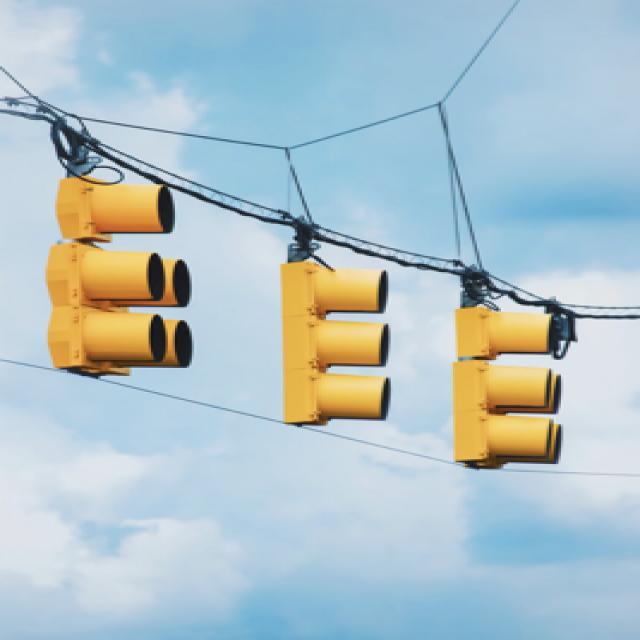trafficlight: (46, 172, 192, 378), (276, 257, 388, 433), (451, 301, 556, 470)
